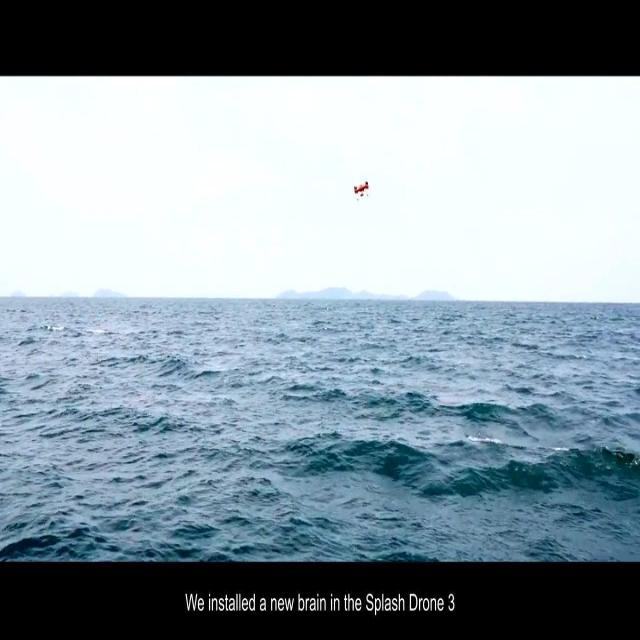UAV: (354, 180, 368, 201)
